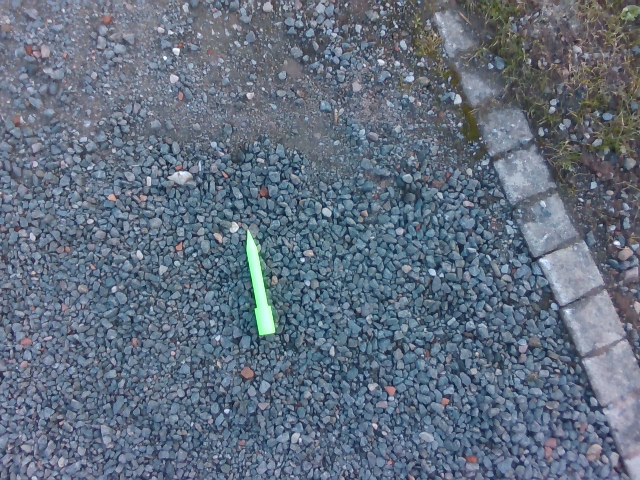Probe: (237, 228, 279, 341)
